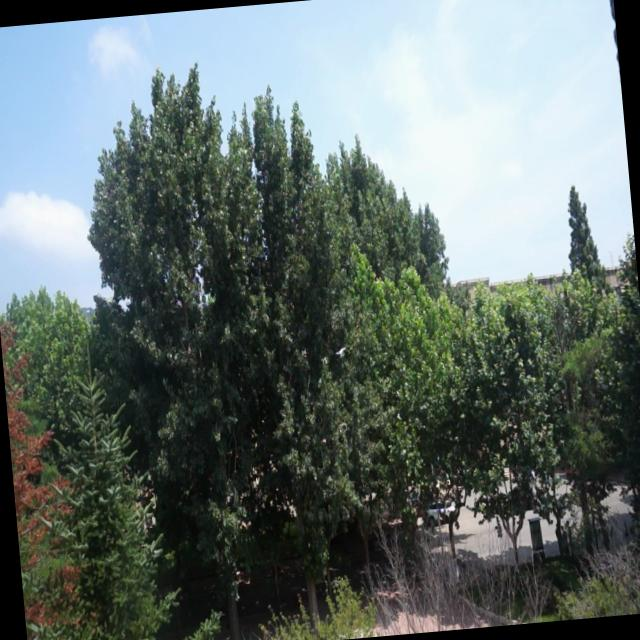drone: (333, 341, 350, 364)
